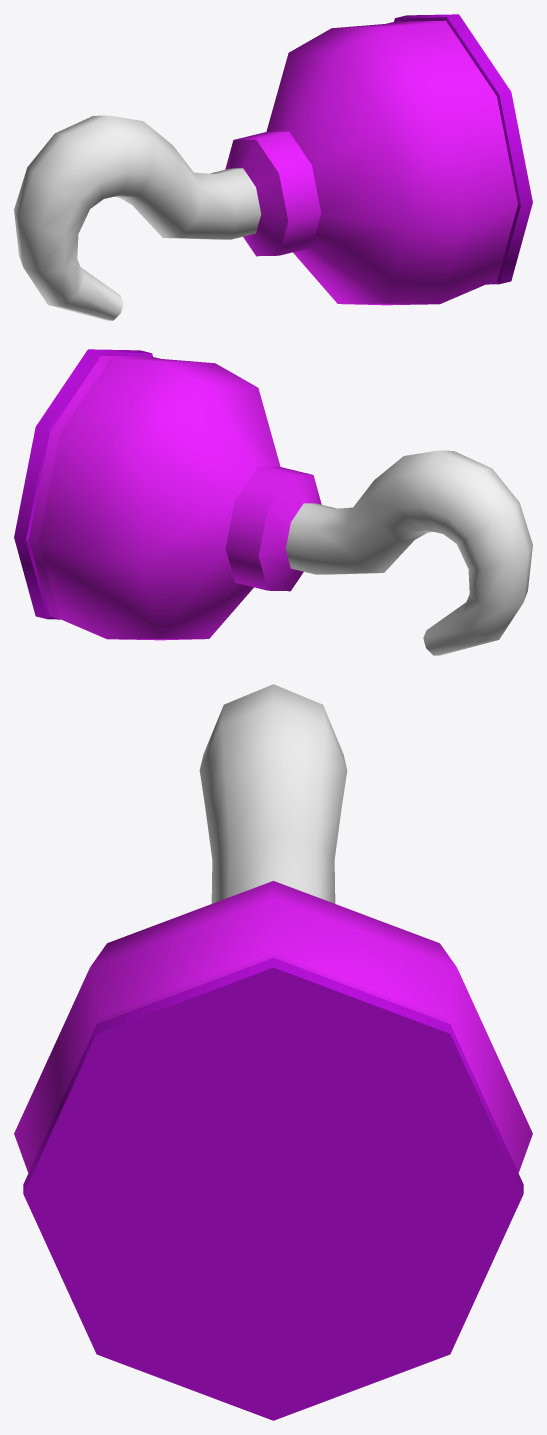
The model's file is hook.fbx.
3 renders of one model, top to bottom at view 1: azimuth 30°, elevation 25°; view 2: azimuth 150°, elevation 25°; view 3: azimuth 270°, elevation 25°, orthographic. The views are drawn at different scales.
Parts seen in each view (by area): view 1: hook; view 2: hook; view 3: hook.
Boxes of the visible parts, bbox=[...] form: hook: bbox=[14, 14, 532, 320]; hook: bbox=[14, 349, 532, 655]; hook: bbox=[14, 684, 532, 1420].
Bounding box in the file's own units: 25.39 × 15.32 × 15.32.
